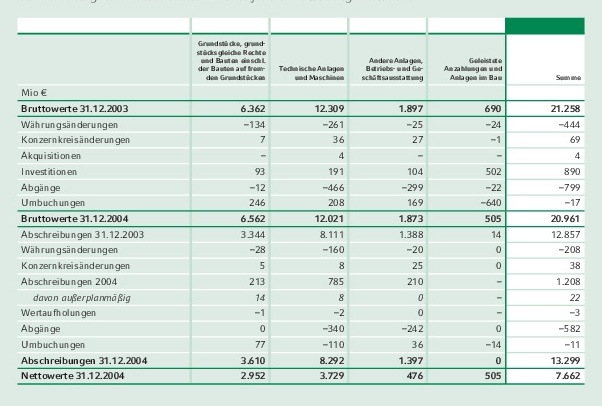table: (0, 0, 602, 406)
